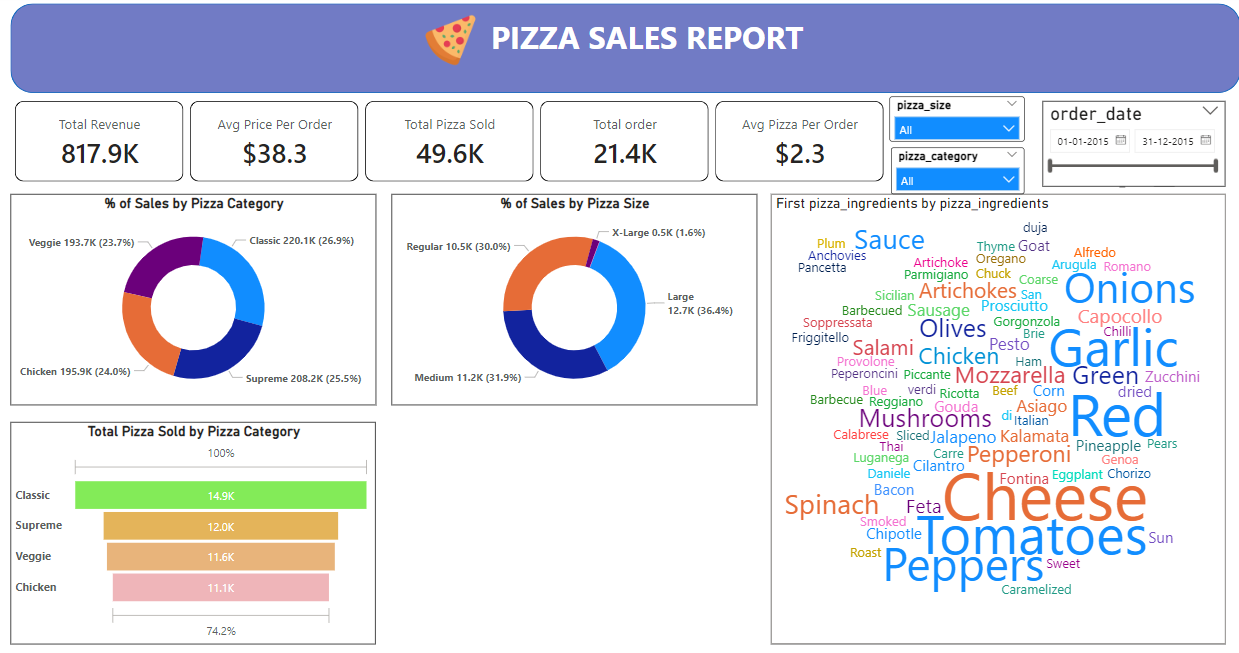

Layout of this report page (visuals, bound fields, positions):
{"tool":"powerbi","page":{"name":"Duplicate of Product","canvas":[1500,800],"ordinal":2},"visuals":[{"type":"shape","box":[16.7,11.9,1473,88.1],"z":0},{"type":"cardVisual","fields":{"Data":["Measure.Total Revenue","Measure.Avg Price Per Order","Measure.Total Pizza","Measure.Total order","Measure.Avg Pizza Per Order"]},"box":[16.6,109.1,1054,109],"z":1000},{"type":"textbox","box":[582.6,22.2,394,66.6],"z":2000},{"type":"image","box":[495.7,25.9,94.3,62.9],"z":3000},{"type":"donutChart","title":"% of Sales by Pizza Category","fields":{"Category":["pizza_sales.pizza_category"],"Y":["Measure.Total Revenue"]},"box":[16.6,240.4,438.3,253.4],"z":4000},{"type":"funnel","title":"Total Pizza Sold by Pizza Category","fields":{"Category":["pizza_sales.pizza_category"],"Y":["Measure.Total Pizza Sold"]},"box":[16.7,514.3,438.1,266.7],"z":5000},{"type":"donutChart","title":"% of Sales by Pizza Size","fields":{"Category":["pizza_sales.pizza_size"],"Y":["Measure.Total order"]},"box":[473.5,240.4,438.3,253.4],"z":6000},{"type":"WordCloud1447959067750","fields":{"Category":["pizza_sales.pizza_ingredients"],"Values":["Min(pizza_sales.pizza_ingredients)"]},"box":[928.5,240.4,545.6,540.1],"z":7000},{"type":"slicer","fields":{"Values":["pizza_sales.pizza_category"]},"box":[1072.1,176.3,160.9,55.5],"z":8000},{"type":"slicer","fields":{"Values":["pizza_sales.pizza_size"]},"box":[1070.3,109.1,162.8,55.5],"z":9000},{"type":"slicer","fields":{"Values":["pizza_sales.order_date"]},"box":[1254,116.5,220.1,111],"z":10000}]}

Visuals, with their boxes in screenshot pixels (x1, y1, x2, y2), scaled from the page's 1500x800 canvas onto the 1239x653 screenshot:
shape: <region>14, 10, 1230, 82</region>
cardVisual - Measure.Total Revenue x Measure.Avg Price Per Order: <region>14, 89, 884, 178</region>
textbox: <region>481, 18, 807, 72</region>
image: <region>409, 21, 487, 72</region>
"% of Sales by Pizza Category" donutChart: <region>14, 196, 376, 403</region>
"Total Pizza Sold by Pizza Category" funnel: <region>14, 420, 376, 637</region>
"% of Sales by Pizza Size" donutChart: <region>391, 196, 753, 403</region>
WordCloud1447959067750 - pizza_sales.pizza_ingredients x Min(pizza_sales.pizza_ingredients): <region>767, 196, 1218, 637</region>
slicer - pizza_sales.pizza_category: <region>886, 144, 1018, 189</region>
slicer - pizza_sales.pizza_size: <region>884, 89, 1019, 134</region>
slicer - pizza_sales.order_date: <region>1036, 95, 1218, 186</region>
